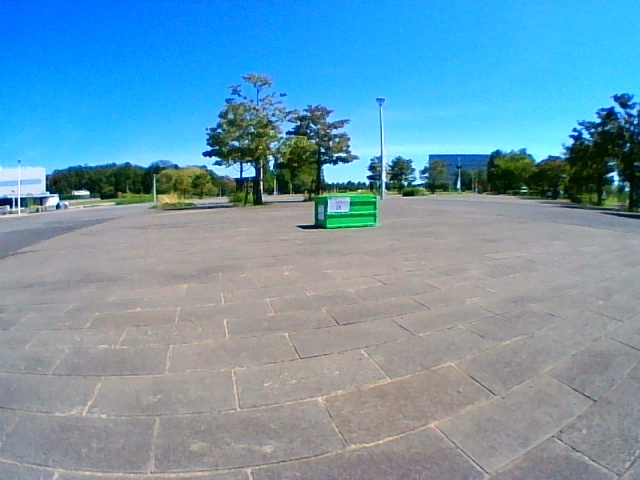green_box: (315, 194, 376, 229)
tag: (329, 198, 349, 211)
